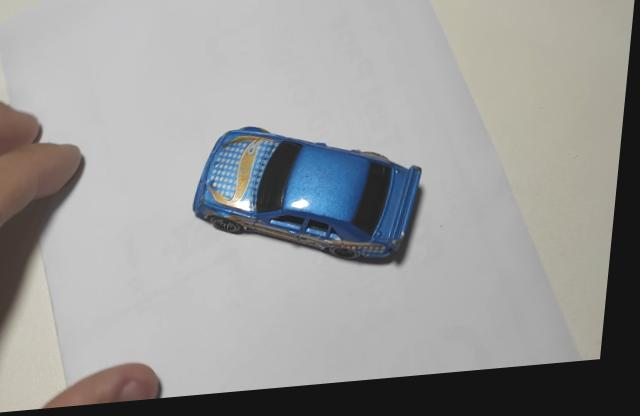04_MERZEDES: (197, 132, 427, 275)
